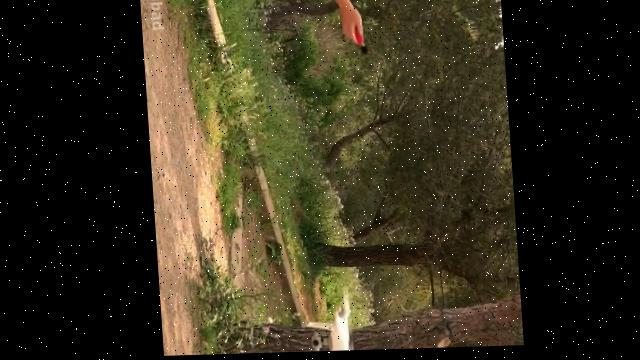drone: (300, 294, 352, 353)
